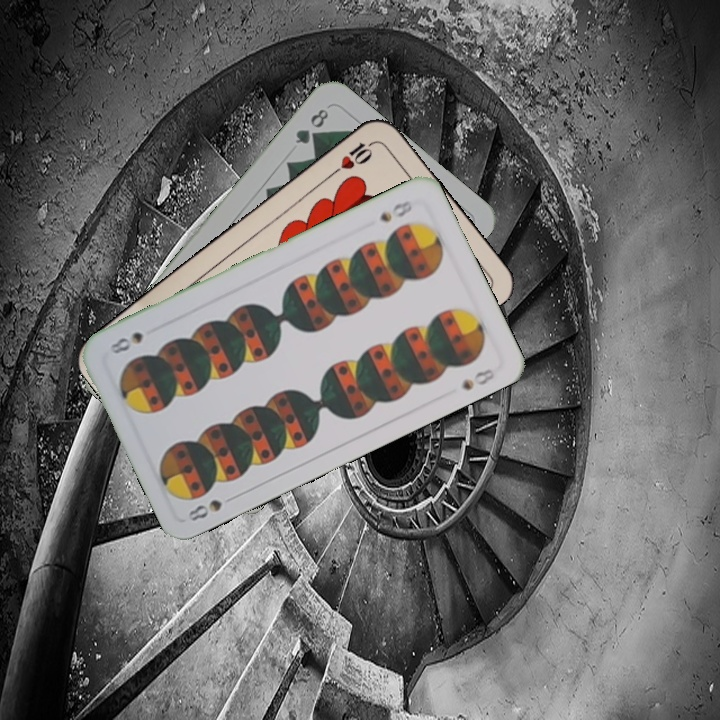G8: (291, 104, 332, 147)
H10: (326, 137, 376, 179)
S8: (184, 491, 240, 524), (375, 196, 415, 225)
